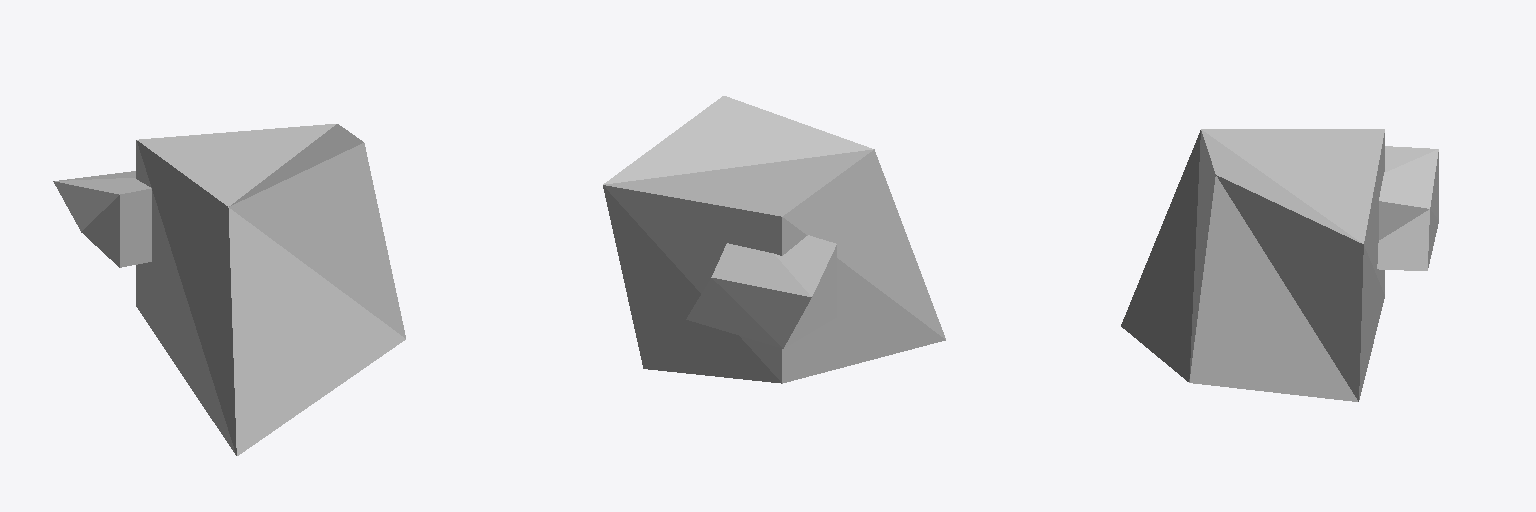
The model's file is polygon.obj.
The picture shows the model from 3 angles: view 1: azimuth 30°, elevation 25°; view 2: azimuth 150°, elevation 25°; view 3: azimuth 270°, elevation 25°; orthographic projection.
Parts seen in each view (by area): view 1: Cube; view 2: Cube; view 3: Cube.
Part boxes in pixels (left/top/right/bottom): Cube: left=53, top=124, right=405, bottom=455; Cube: left=603, top=96, right=945, bottom=383; Cube: left=1121, top=129, right=1438, bottom=401.
Bounding box in the file's own units: 3.1 × 2.84 × 3.46.